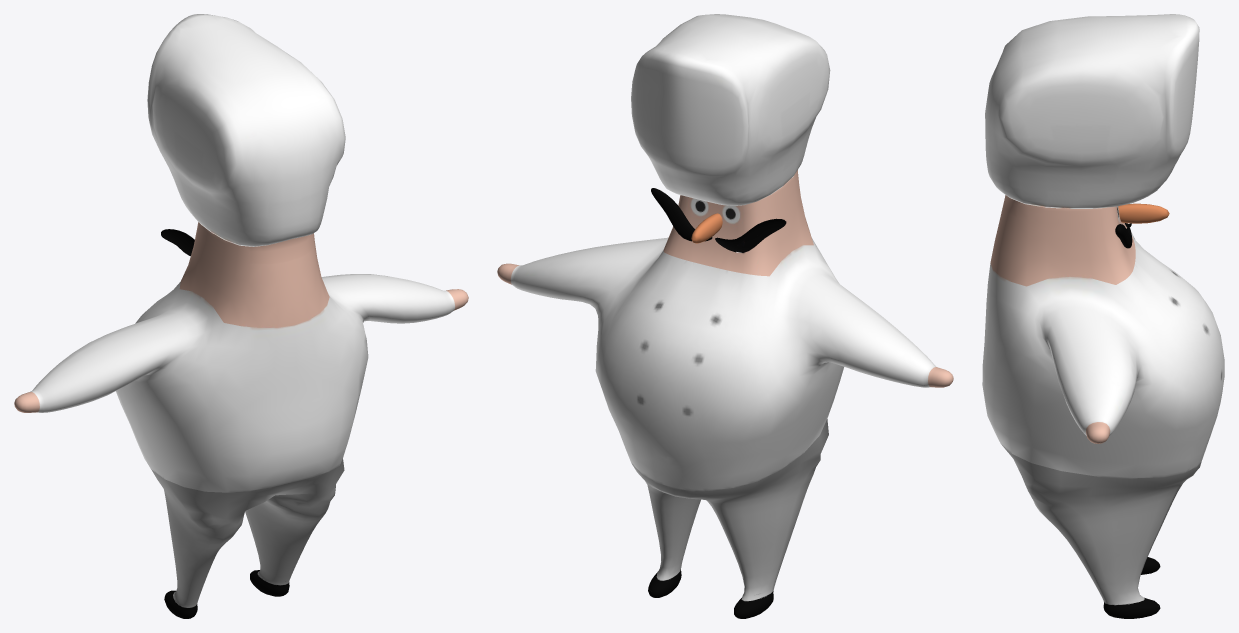
Rendered from Chef.fbx.
3 views of the same model, side by side, from view 1: azimuth 30°, elevation 25°; view 2: azimuth 150°, elevation 25°; view 3: azimuth 270°, elevation 25° (orthographic).
Visible parts, largest first — view 1: chef_mesh; view 2: chef_mesh; view 3: chef_mesh.
Part boxes in pixels (bbox=[...]): chef_mesh: bbox=[14, 14, 468, 618]; chef_mesh: bbox=[497, 14, 953, 618]; chef_mesh: bbox=[982, 14, 1224, 618].
Size of the model in its own units: 167 by 200 by 76.59.
